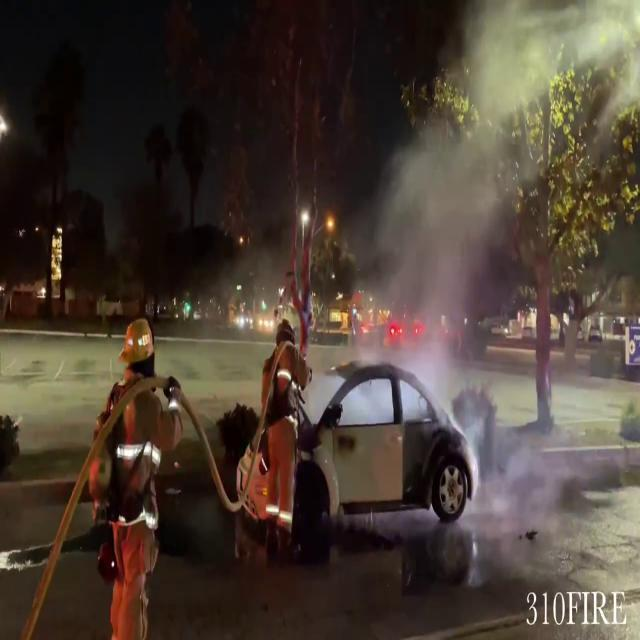Smoke: (363, 4, 536, 384)
